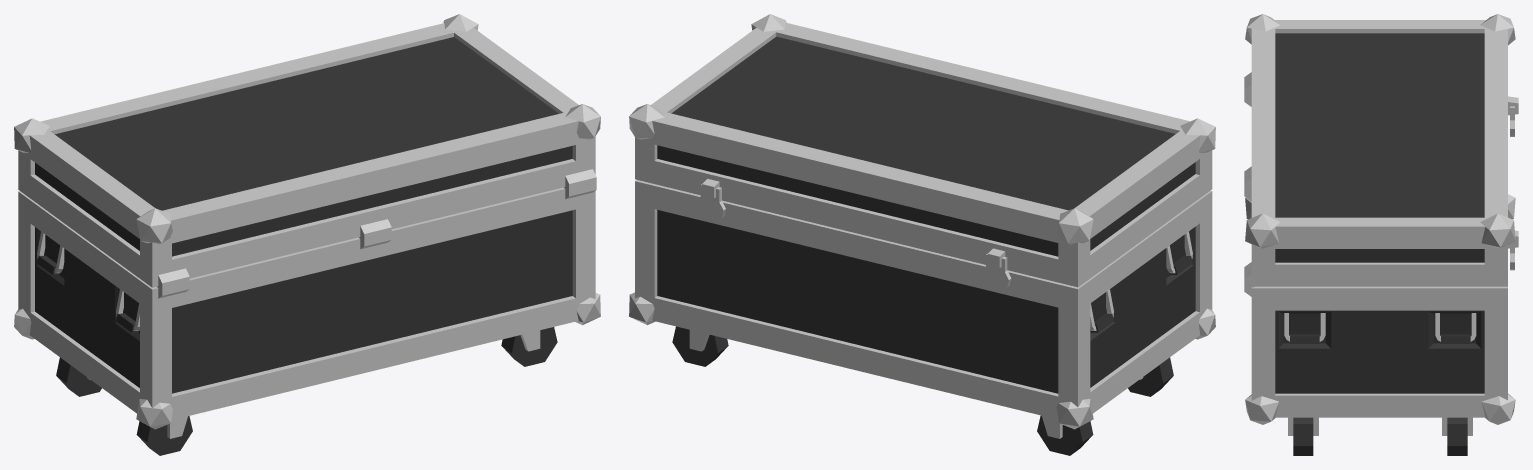
File: AmpRack_02.glb
The picture shows the model from 3 angles, left to right: view 1: azimuth 30°, elevation 25°; view 2: azimuth 150°, elevation 25°; view 3: azimuth 270°, elevation 25°; orthographic projection. The views are drawn at different scales.
Parts seen in each view (by area): view 1: MusicContainer_2_mesh; view 2: MusicContainer_2_mesh; view 3: MusicContainer_2_mesh.
Boxes of the visible parts, x1,y1,x2,y2 form: MusicContainer_2_mesh: (14,14,600,455); MusicContainer_2_mesh: (629,14,1215,455); MusicContainer_2_mesh: (1244,14,1518,455).
Size of the model in its own units: 1.08 by 0.5926 by 0.5825.
2 materials, 2 textured.
